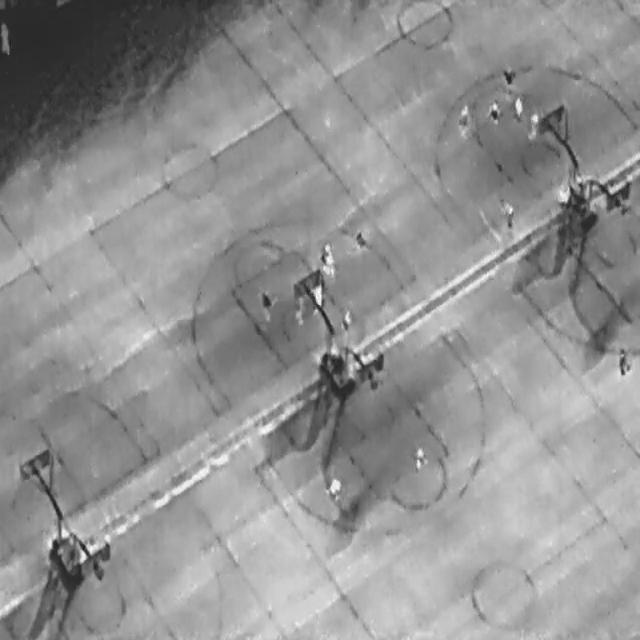Person: (322, 473, 344, 502), (259, 289, 278, 321), (319, 241, 335, 275), (410, 443, 428, 472), (523, 111, 540, 141), (615, 345, 631, 376), (487, 98, 501, 128), (339, 305, 353, 335), (458, 102, 470, 136), (0, 21, 10, 60), (503, 202, 516, 232), (501, 62, 515, 88), (512, 94, 523, 120)
